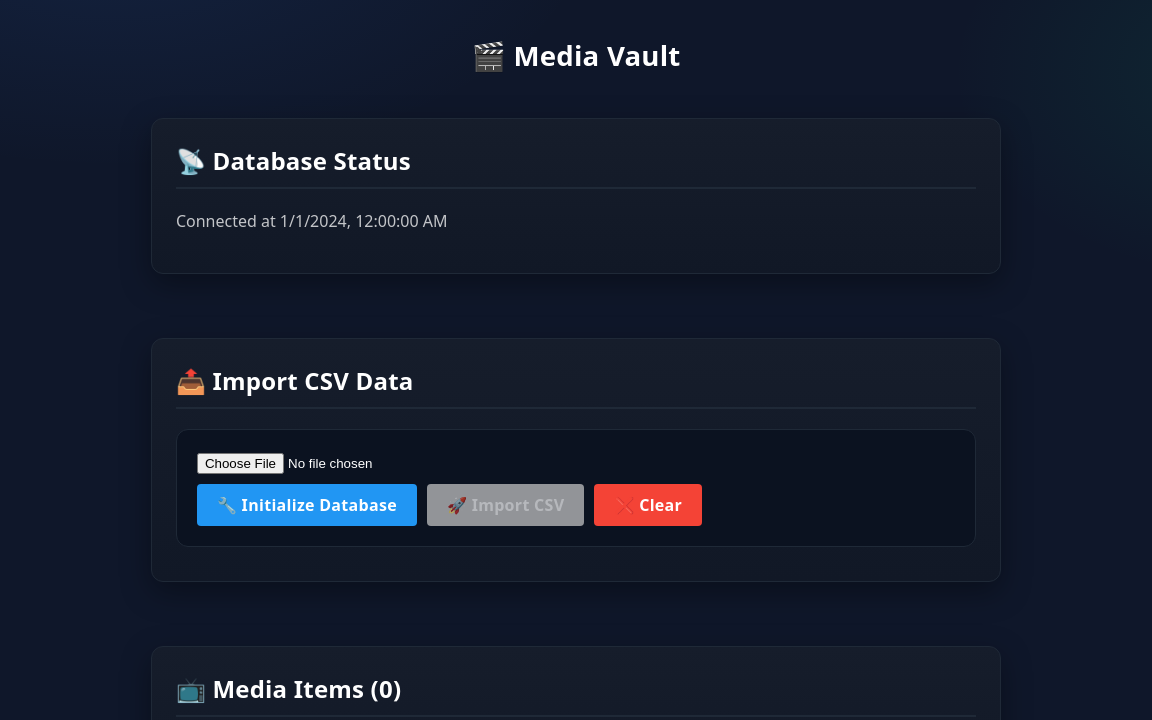
Scenario: App Component › CSV Import Section › should initialize database when button is clicked
The image size is (1152, 720).
Click the button "🔧 Initialize Database". click: (307, 505)
box: [197,484,417,526]
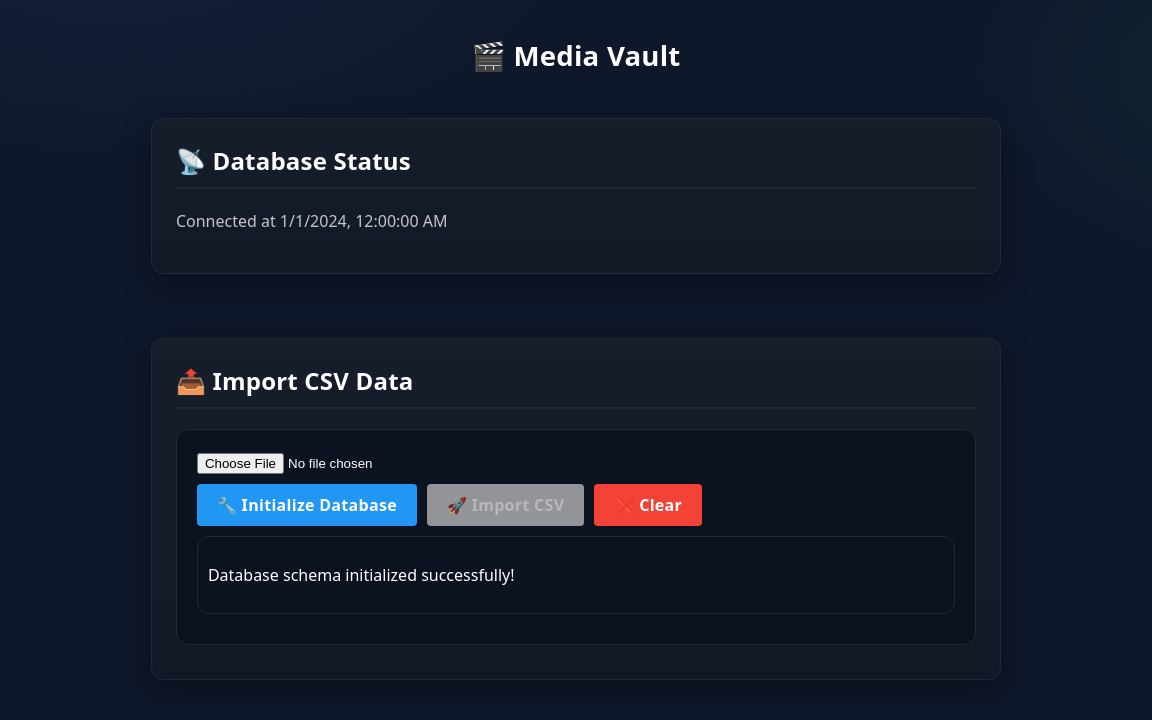
Expected: the text "Database schema initialized successfully!" is shown, [208,564,514,586]
